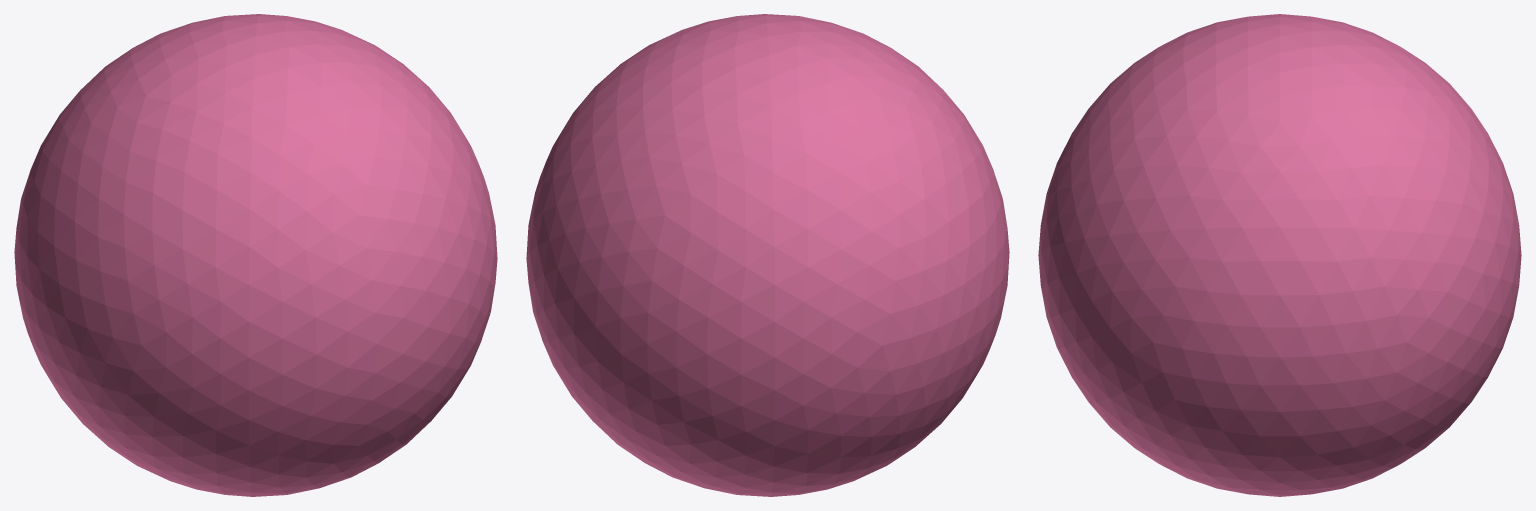
Rendered from matcau.glb.
3 views of the same model, side by side, from view 1: azimuth 30°, elevation 25°; view 2: azimuth 150°, elevation 25°; view 3: azimuth 270°, elevation 25° (orthographic).
Parts seen in each view (by area): view 1: world; view 2: world; view 3: world.
Part boxes in pixels (<box>): world: <box>14,14,497,496</box>; world: <box>526,14,1009,496</box>; world: <box>1038,14,1521,496</box>.
Bounding box in the file's own units: 0.315 × 0.315 × 0.315.
